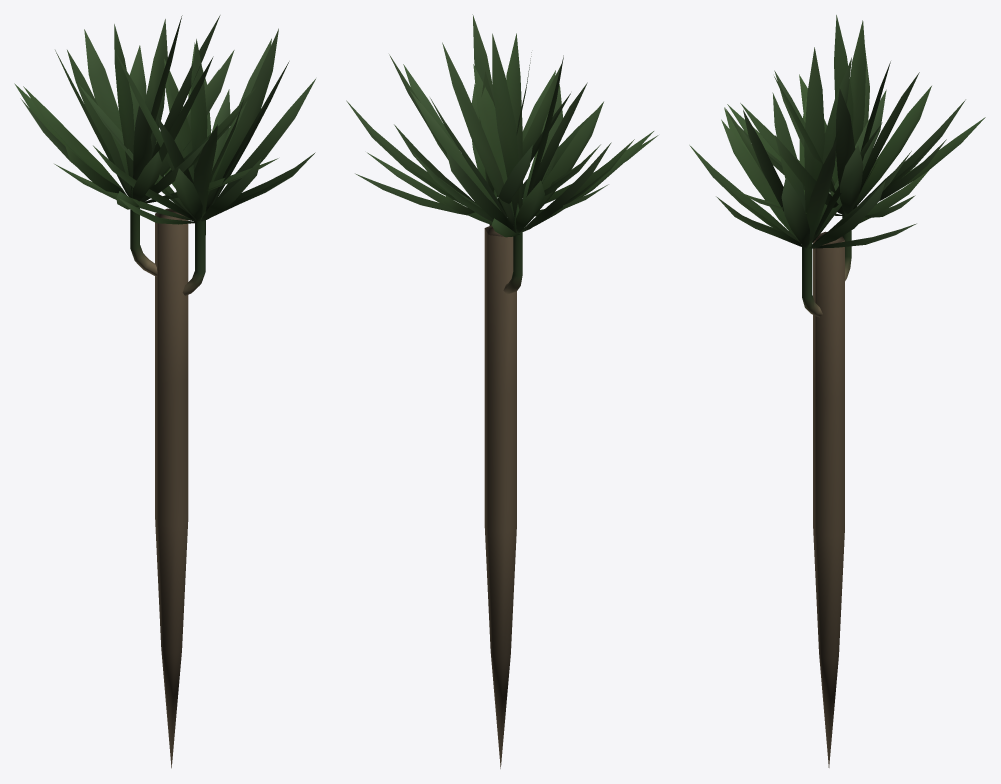
Rendered from plants-trees-palms-yucca-tree_v3.glb.
3 renders of one model, left to right at view 1: azimuth 30°, elevation 25°; view 2: azimuth 150°, elevation 25°; view 3: azimuth 270°, elevation 25°, orthographic. The views are drawn at different scales.
Parts seen in each view (by area): view 1: Yucca Tree_v3; view 2: Yucca Tree_v3; view 3: Yucca Tree_v3.
Boxes of the visible parts, box(x1,y1,x2,y2) form: Yucca Tree_v3: box(14, 15, 315, 768); Yucca Tree_v3: box(346, 14, 658, 768); Yucca Tree_v3: box(689, 15, 985, 767).
Size of the model in its own units: 1.09 by 3 by 1.12.
